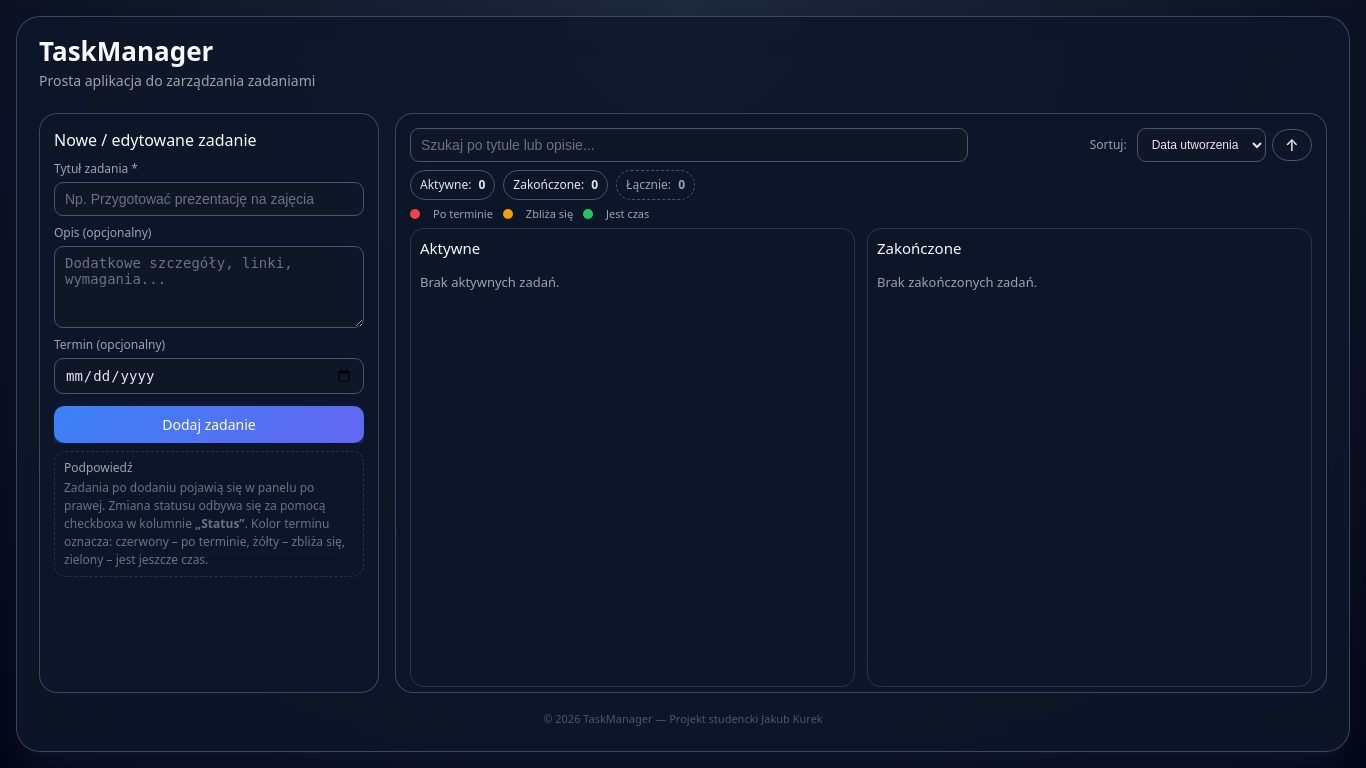
Test: Integration Tests: App Component › should add a new task to the list
Type "Testowe zadanie" into the field with placeholder "Np. Przygotować prezentację na zajęcia". click: coordinates (209, 199)
box: x1=54 y1=182 x2=364 y2=216
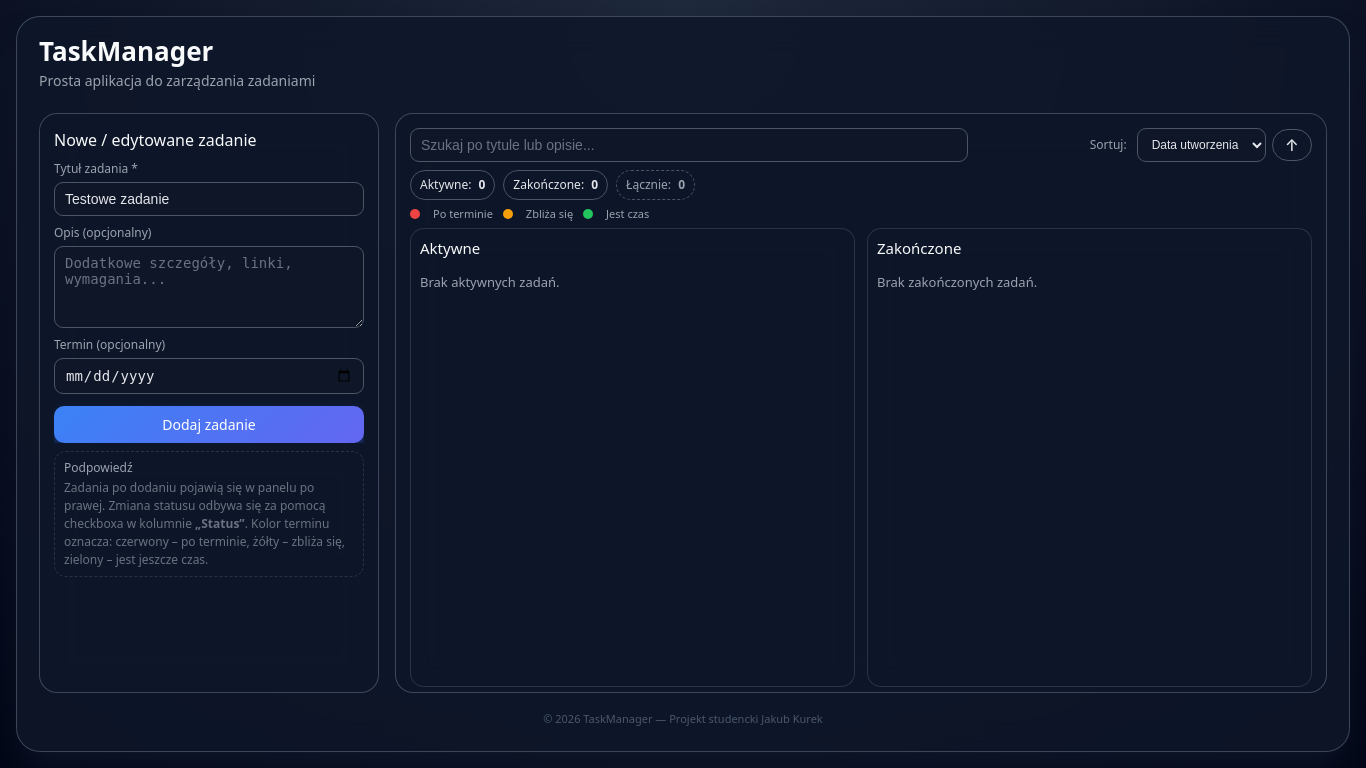
Click the button "Dodaj zadanie". click: coordinates (209, 424)
box: x1=54 y1=406 x2=364 y2=443
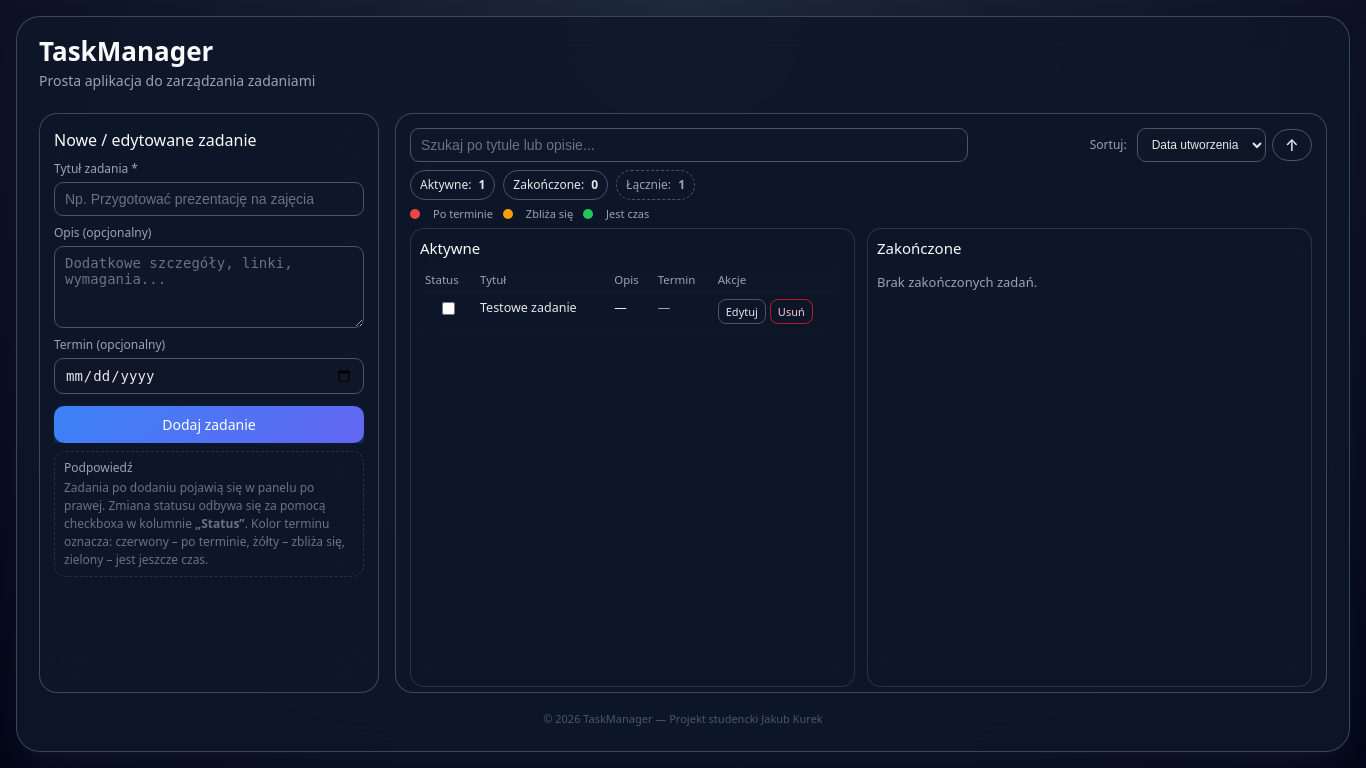
Expected: the text "Testowe zadanie" is shown, x1=475 y1=293 x2=609 y2=330
